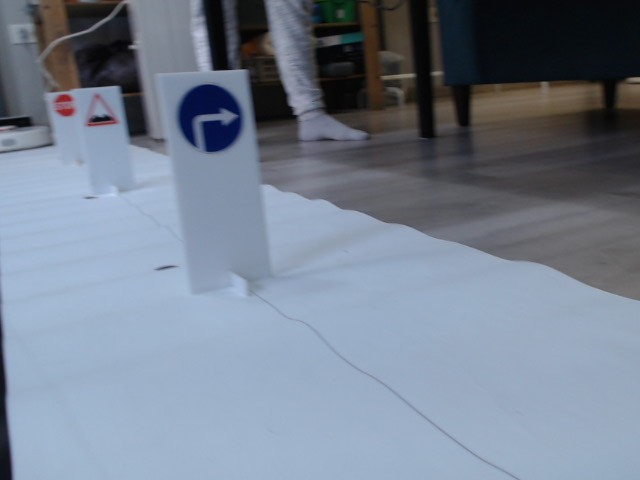Nerov: (83, 94, 121, 128)
Right: (176, 81, 242, 155)
